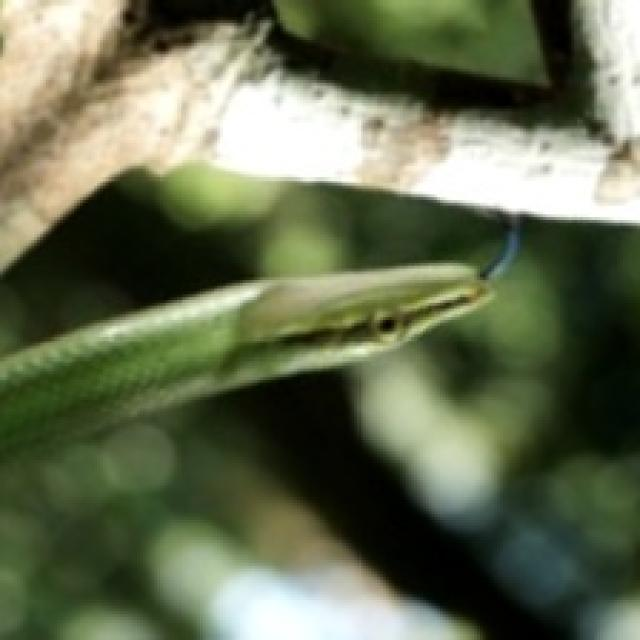red-tailed green ratsnake: (0, 223, 517, 454)
